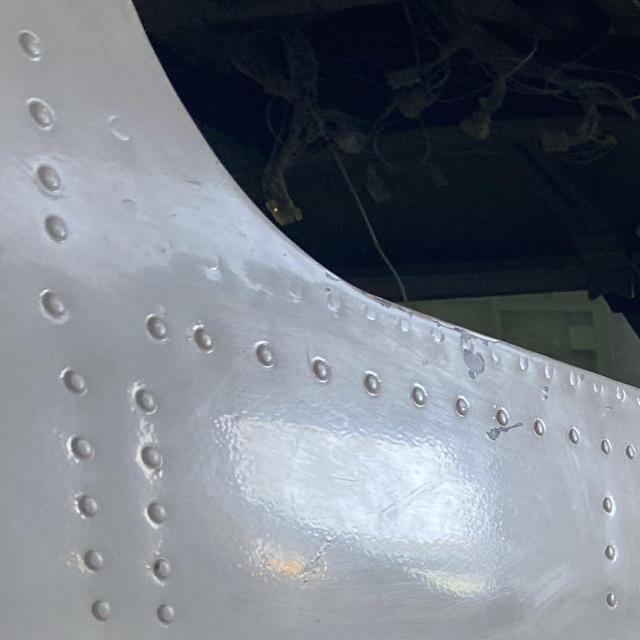Paint-off: (458, 342, 485, 375)
Scratch: (488, 423, 524, 441)
